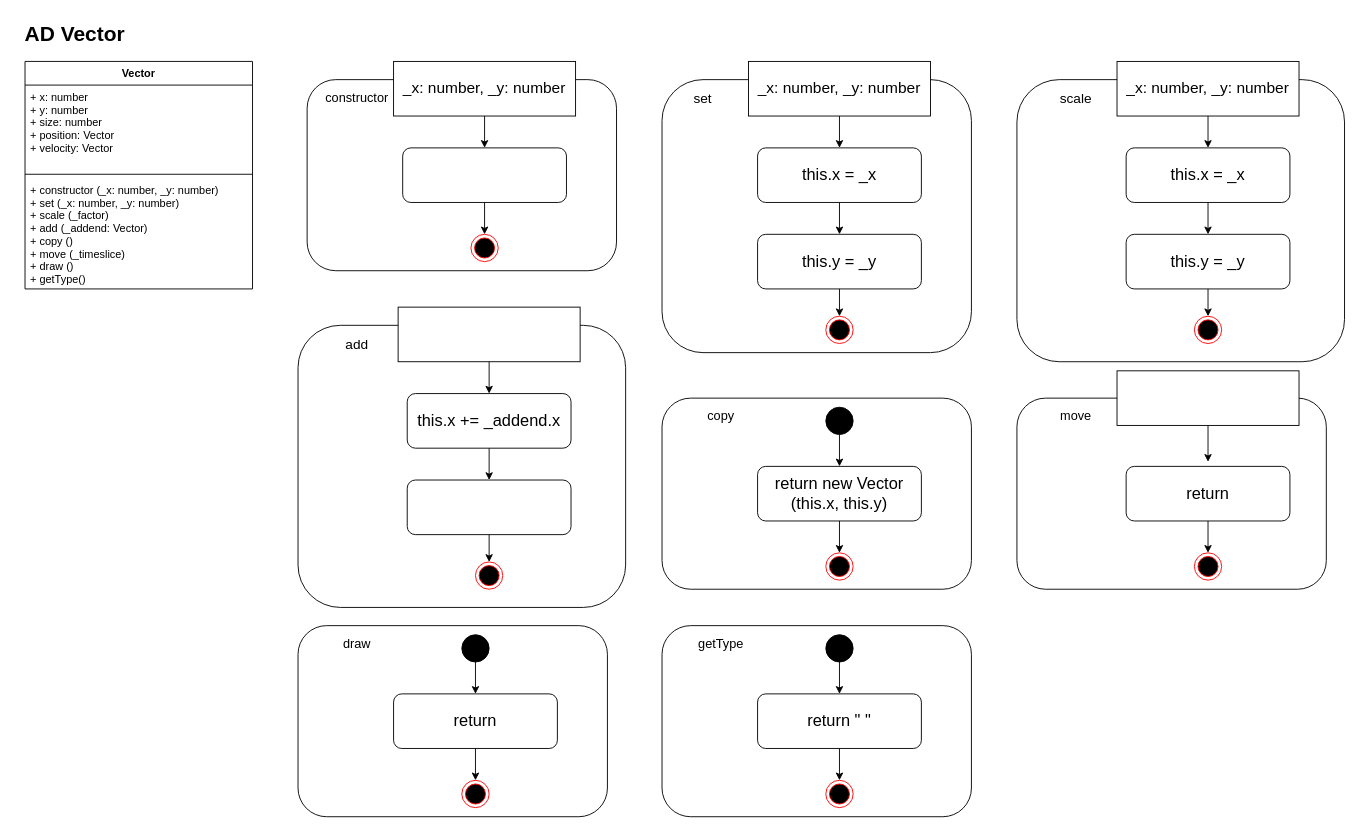
The diagram is 1360 pixels wide and 833 high, and some of its shapes have lost their labels. The shapes that lost their labels are listed below. From the top down, each one's centre as x and y in pixels, then its label:
point 484,174: this.set (_x, _y)
point 488,334: _addend: Vector
point 1207,397: _timeslice: number
point 488,507: this.y += _addend.y
